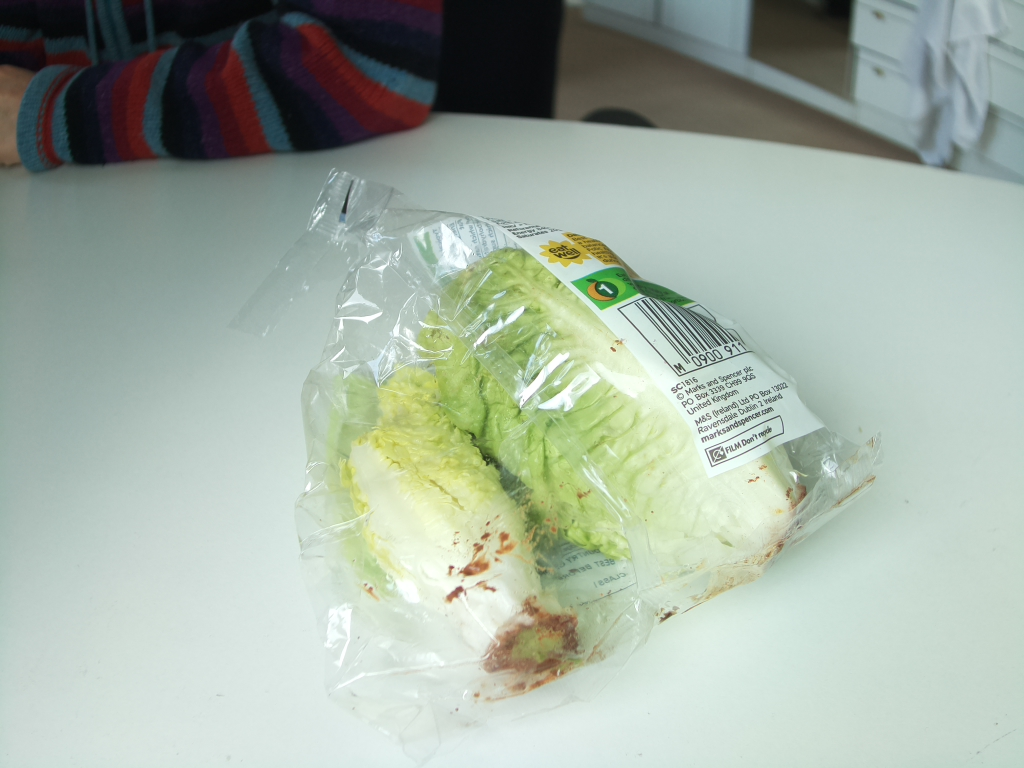salad: (329, 233, 803, 684)
